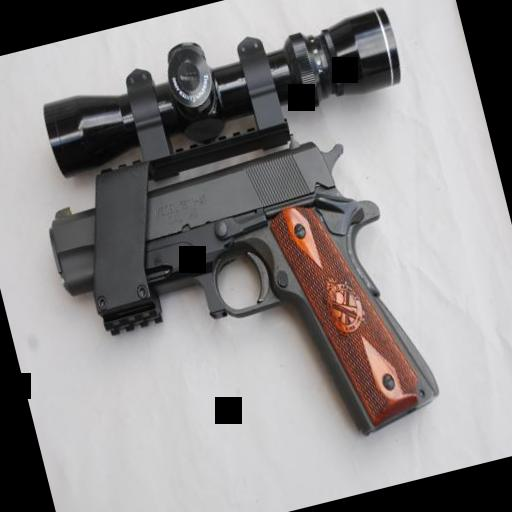Handgun: (26, 115, 446, 499)
